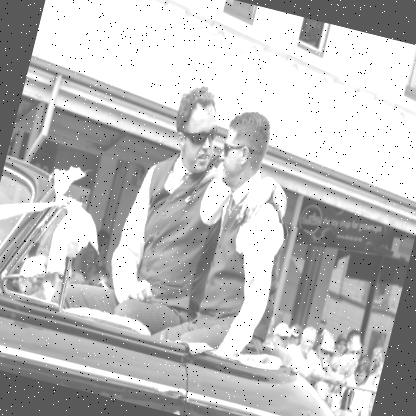Car: (0, 154, 408, 415)
